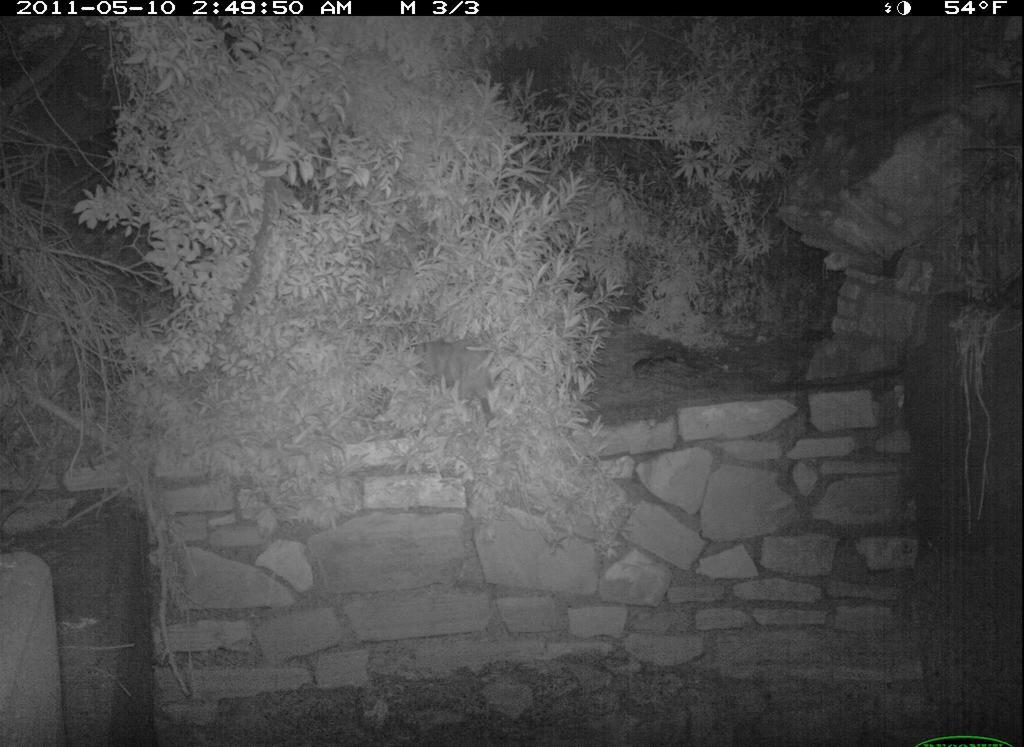opossum: (409, 329, 501, 423)
